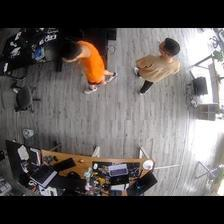normal: (60, 39, 118, 95), (135, 37, 181, 95)
